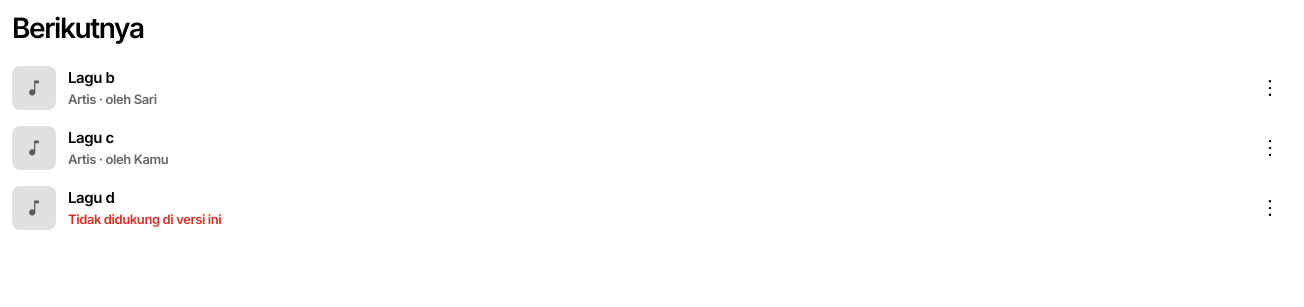
Scenario: QueueList › opens one row menu at a time and reports it with aria-expanded
The width and height of the screenshot is (1304, 307).
Later steps or results of the test are not shown.
What coordinates should you click on to do the following:
click the button named "Aksi: Lagu c"
I would click on:
 (1270, 148)
Its box is [1248,126,1292,170].
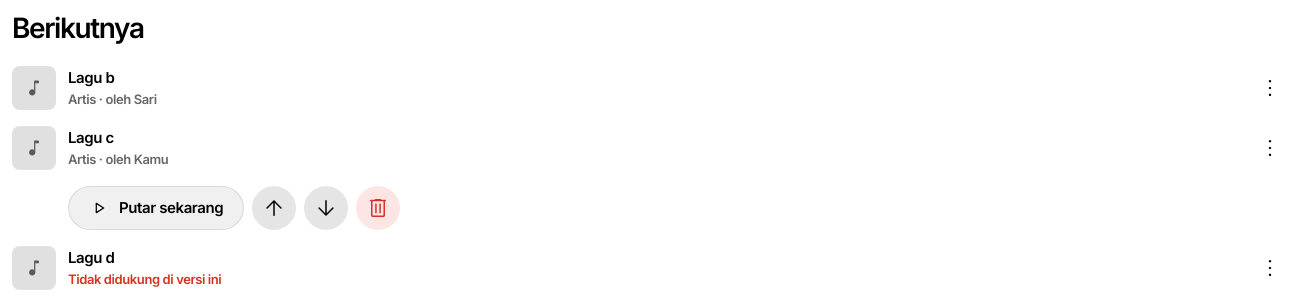
What coordinates should you click on to do the following:
click the button named "Aksi: Lagu b"
I would click on:
 (1270, 88)
Its box is [1248,66,1292,110].
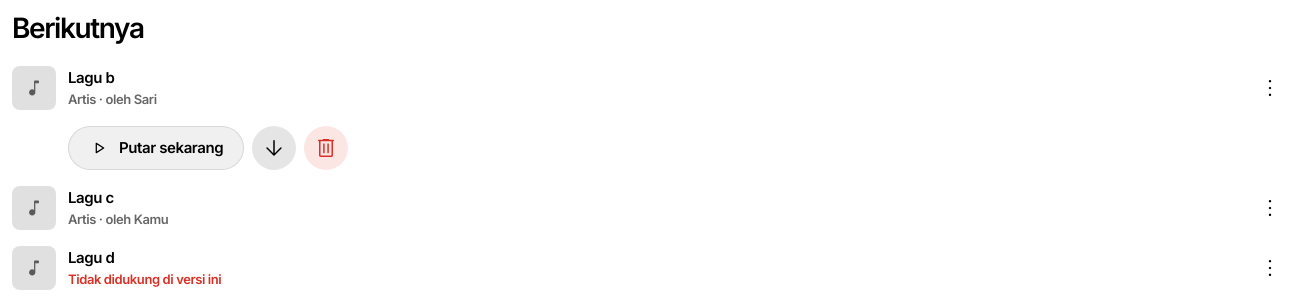
Check: the button named "Hapus: Lagu b" is shown, box [304,126,348,170]
